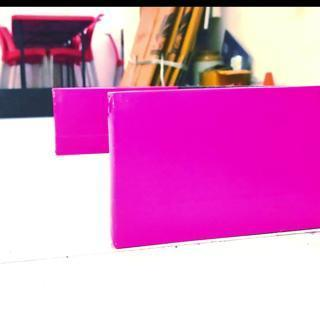xparking: (109, 89, 320, 248), (53, 86, 105, 156)
